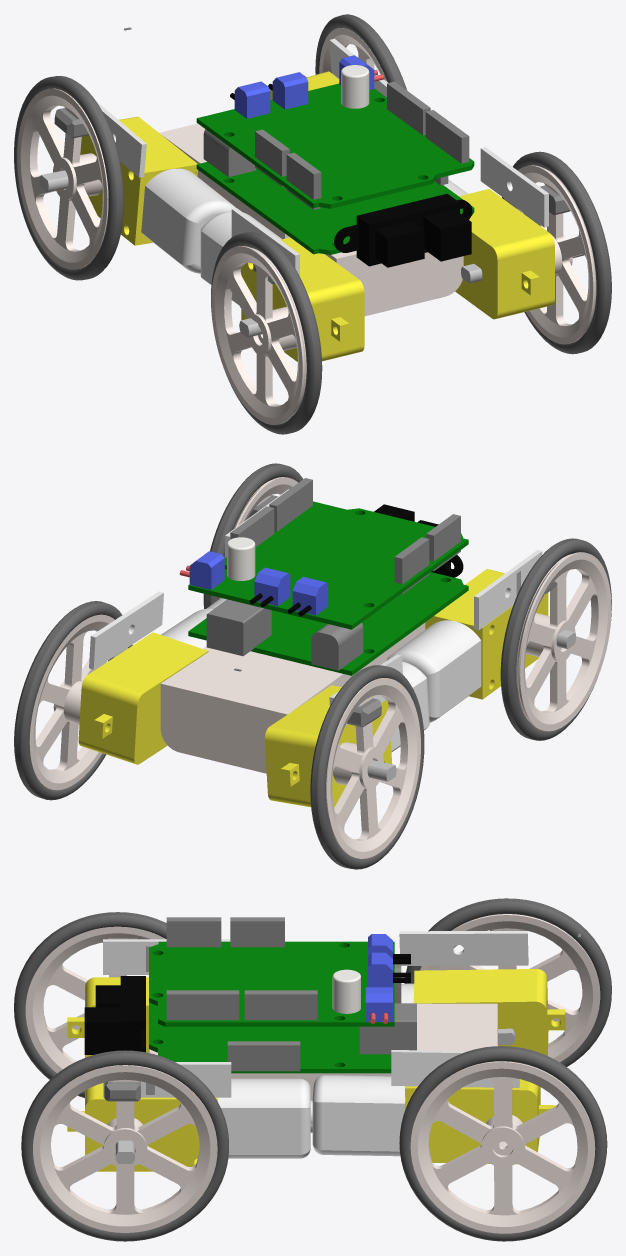
Rendered from ArduinoRover.glb.
3 views of the same model, one above another, from view 1: azimuth 30°, elevation 25°; view 2: azimuth 150°, elevation 25°; view 3: azimuth 270°, elevation 25° (orthographic).
Parts seen in each view (by area): view 1: Body1_Dark Olive_0.001, Body1_ABS (White)_0.001, Body1_ABS (White)_0.002, Body1, Dalnomer, Body1_Dark Olive_0, Body1_Plastic - Translucent Glossy (Yellow)_0.001, Body2_Aluminum - Polished_0.002, Body1_ABS (White)_0, Body1_Rubber - Weathered_0.002, BattHolder18650x2, Body1_Rubber - Weathered_0.001 (+19 smaller); view 2: Body1_Dark Olive_0.001, BattHolder18650x2_ABS (White)_0.001, Body1_ABS (White)_0.001, Body1_ABS (White)_0.002, Body1_Plastic - Translucent Glossy (Yellow)_0.004, Body1_Dark Olive_0, Body1_ABS (White)_0.003, Body1_Plastic - Translucent Glossy (Yellow)_0.002, Body2_Aluminum - Polished_0.001, Body1_Rubber - Weathered_0.002, Body1_Rubber - Weathered_0.003, Body1_Rubber - Weathered_0.001 (+19 smaller); view 3: Body1_ABS (White)_0.003, Body1_ABS (White)_0, Body1_Dark Olive_0.001, Body1_Dark Olive_0, Body1_Rubber - Weathered_0.003, Body1_Rubber - Weathered_0, Body2_Aluminum - Polished_0.004, Body1_Plastic - Translucent Glossy (Yellow)_0.002, Body2, Body1_ABS (White)_0.002, Body1_ABS (White)_0.001, Body1_Rubber - Weathered_0.002 (+24 smaller).
Part boxes in pixels (left/top/right/bottom): Body1_Dark Olive_0.001: left=196, top=83, right=474, bottom=208; Body1_ABS (White)_0.001: left=211, top=246, right=306, bottom=424; Body1_ABS (White)_0.002: left=17, top=88, right=108, bottom=269; Body1: left=455, top=189, right=554, bottom=319; Dalnomer: left=334, top=193, right=472, bottom=267; Body1_Dark Olive_0: left=196, top=162, right=474, bottom=254; Body1_Plastic - Translucent Glossy (Yellow)_0.001: left=241, top=237, right=364, bottom=361; Body2_Aluminum - Polished_0.002: left=141, top=168, right=235, bottom=273; Body1_ABS (White)_0: left=504, top=165, right=596, bottom=344; Body1_Rubber - Weathered_0.002: left=14, top=76, right=123, bottom=280; BattHolder18650x2: left=325, top=250, right=463, bottom=316; Body1_Rubber - Weathered_0.001: left=211, top=232, right=322, bottom=434; Body1_Dark Olive_0.001: left=188, top=501, right=468, bottom=629; BattHolder18650x2_ABS (White)_0.001: left=160, top=631, right=413, bottom=773; Body1_ABS (White)_0.001: left=516, top=552, right=611, bottom=731; Body1_ABS (White)_0.002: left=326, top=678, right=420, bottom=858; Body1_Plastic - Translucent Glossy (Yellow)_0.004: left=78, top=632, right=208, bottom=764; Body1_Dark Olive_0: left=188, top=572, right=468, bottom=675; Body1_ABS (White)_0.003: left=29, top=614, right=127, bottom=790; Body1_Plastic - Translucent Glossy (Yellow)_0.002: left=264, top=685, right=392, bottom=807; Body2_Aluminum - Polished_0.001: left=386, top=620, right=481, bottom=722; Body1_Rubber - Weathered_0.002: left=310, top=665, right=424, bottom=869; Body1_Rubber - Weathered_0.003: left=14, top=601, right=132, bottom=800; Body1_Rubber - Weathered_0.001: left=500, top=538, right=611, bottom=740; Body1_ABS (White)_0.003: left=410, top=1061, right=595, bottom=1233; Body1_ABS (White)_0: left=33, top=1065, right=217, bottom=1232; Body1_Dark Olive_0.001: left=149, top=941, right=394, bottom=1026; Body1_Dark Olive_0: left=149, top=1002, right=391, bottom=1073; Body1_Rubber - Weathered_0.003: left=399, top=1046, right=607, bottom=1241; Body1_Rubber - Weathered_0: left=21, top=1050, right=228, bottom=1241; Body2_Aluminum - Polished_0.004: left=310, top=1075, right=405, bottom=1156; Body1_Plastic - Translucent Glossy (Yellow)_0.002: left=413, top=969, right=565, bottom=1055; Body2: left=217, top=1078, right=312, bottom=1158; Body1_ABS (White)_0.002: left=420, top=914, right=600, bottom=1062; Body1_ABS (White)_0.001: left=25, top=926, right=165, bottom=1073; Body1_Rubber - Weathered_0.002: left=404, top=898, right=611, bottom=1066.
Bounding box in the file's own units: 113 × 69.68 × 167.
